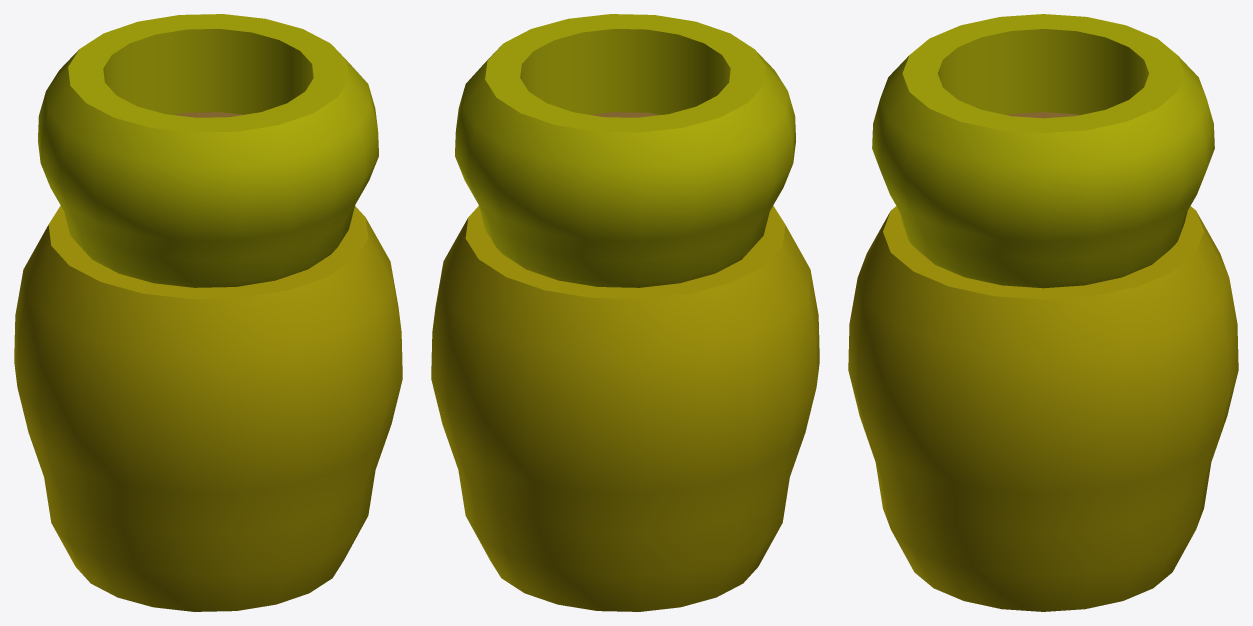
File: pottedplant.fbx
The picture shows the model from 3 angles, left to right: view 1: azimuth 30°, elevation 25°; view 2: azimuth 150°, elevation 25°; view 3: azimuth 270°, elevation 25°; orthographic projection.
Visible parts, largest first — view 1: pPipe1, pPipe2; view 2: pPipe1, pPipe2; view 3: pPipe1, pPipe2.
Part boxes in pixels (x1,y1,x2,y2): pPipe1: (14, 205, 402, 611); pPipe2: (38, 14, 378, 287); pPipe1: (431, 205, 819, 611); pPipe2: (455, 14, 795, 287); pPipe1: (848, 206, 1238, 611); pPipe2: (872, 14, 1214, 288).
Bounding box in the file's own units: 4.86 × 6.61 × 4.86.
